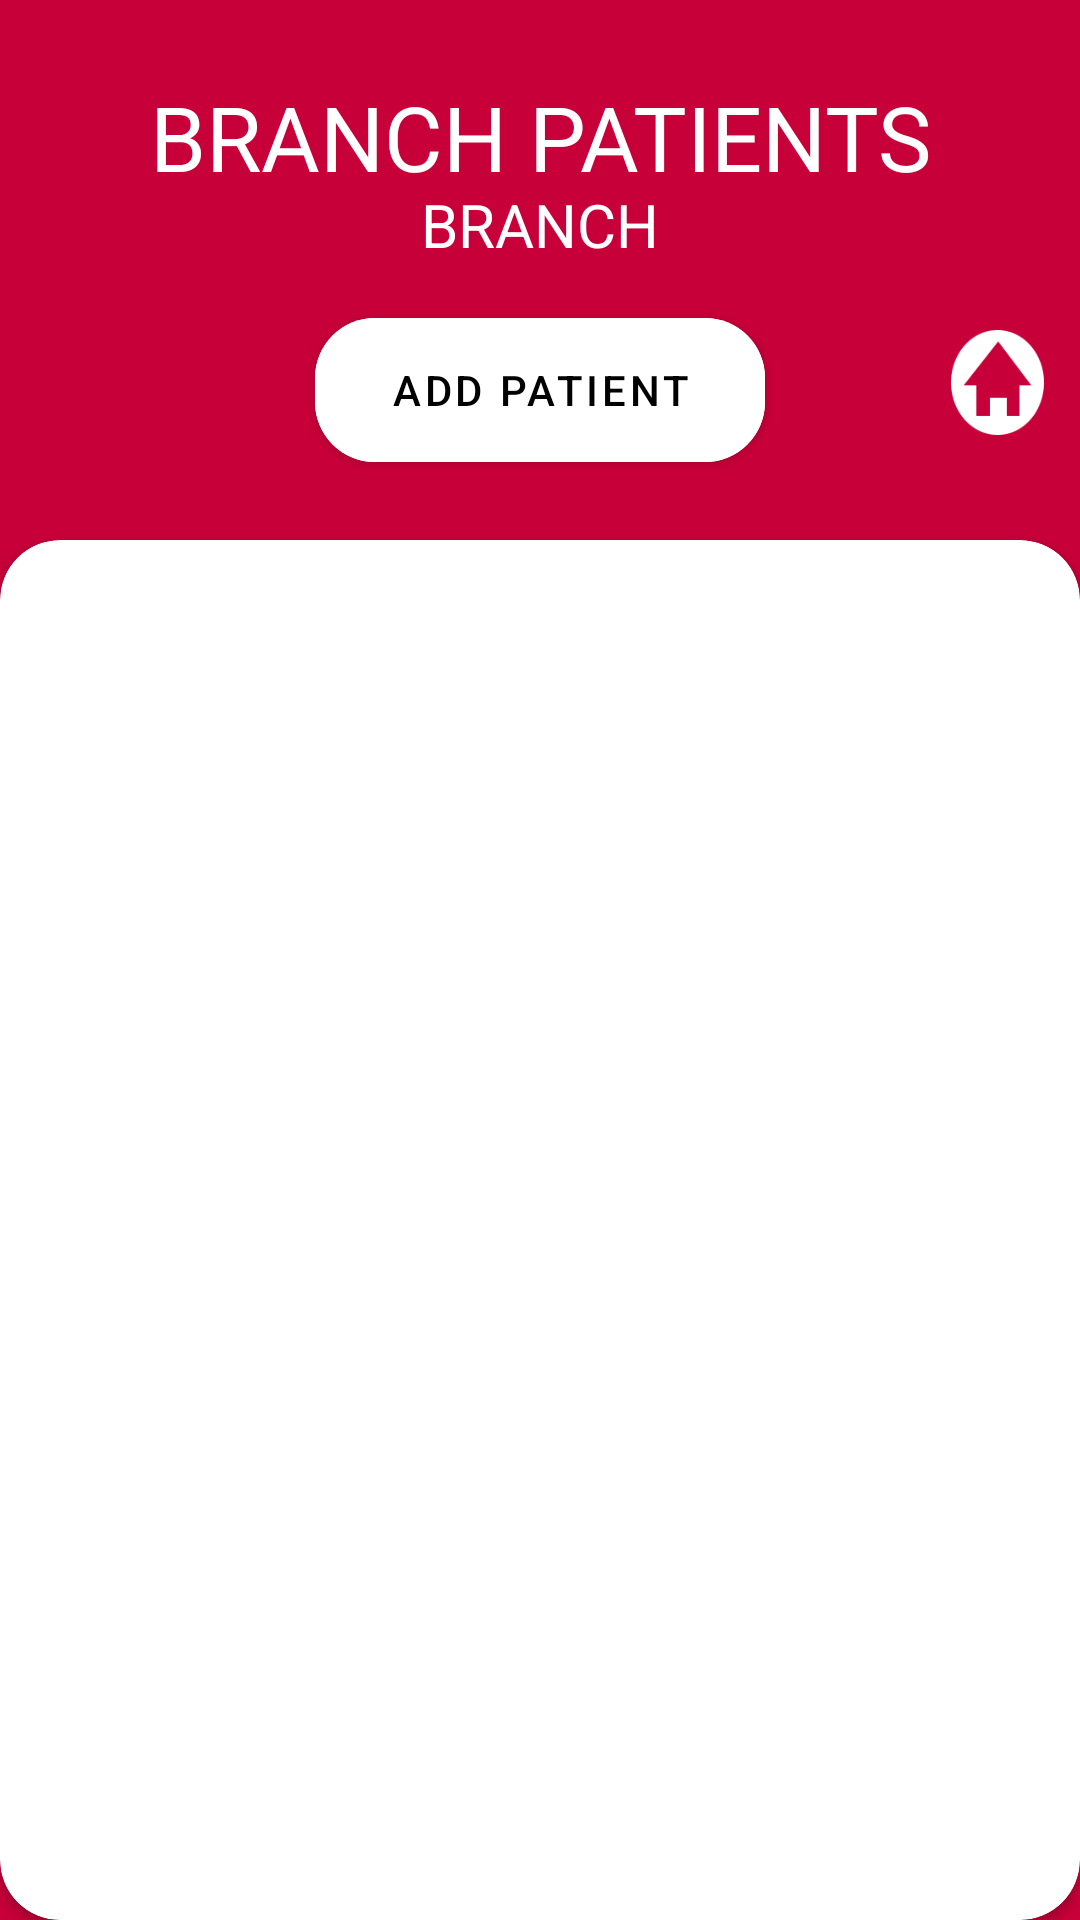

Where to tap for icons on this 1080px×1920px app screen, as (x=x, y=y):
home symbol onred: (x=997, y=382)
